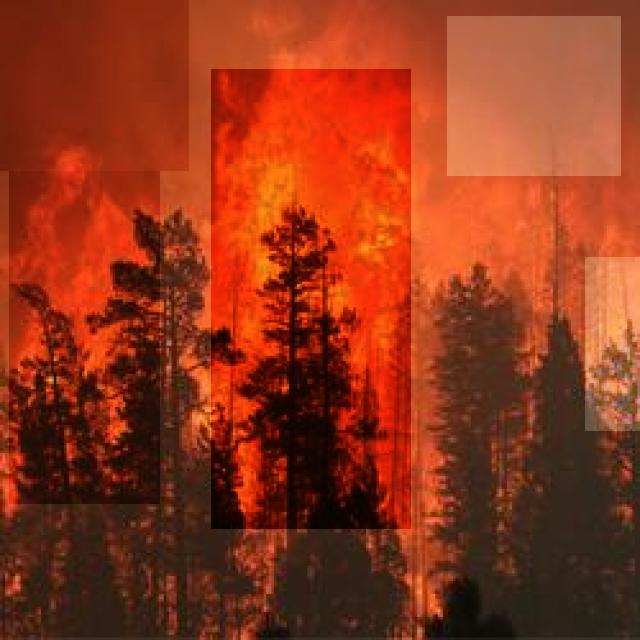Fire: (211, 69, 411, 529), (9, 154, 160, 504), (585, 258, 640, 432)
Smoke: (0, 0, 189, 171), (448, 16, 622, 176)
